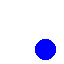circle: (35, 39, 55, 59)
